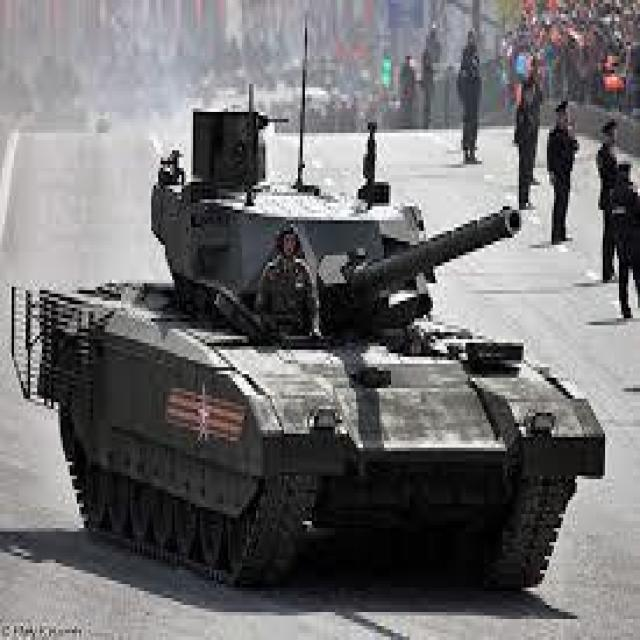Tanks: (12, 36, 574, 606)
